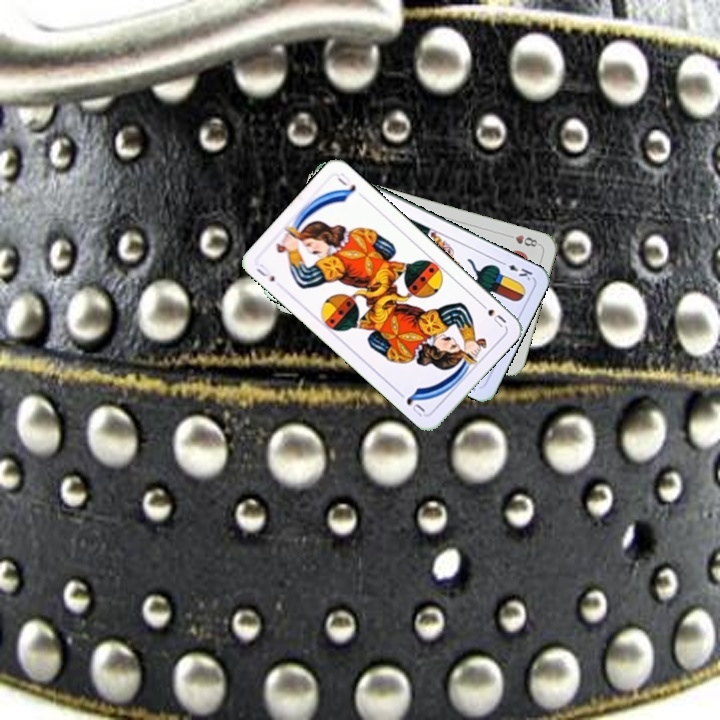EK: (496, 257, 535, 283)
H8: (502, 230, 542, 249)
SU: (475, 298, 509, 330), (252, 259, 278, 284)
